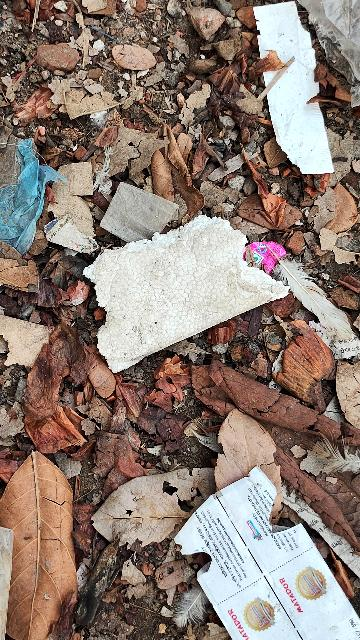cocksheet: (54, 168, 297, 402)
